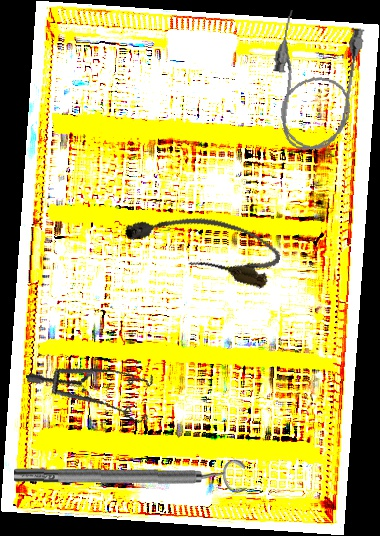Cannula: (120, 194, 286, 292), (262, 8, 367, 156)
Fixation Ring: (13, 454, 246, 497)
Speculum: (25, 340, 166, 453)
